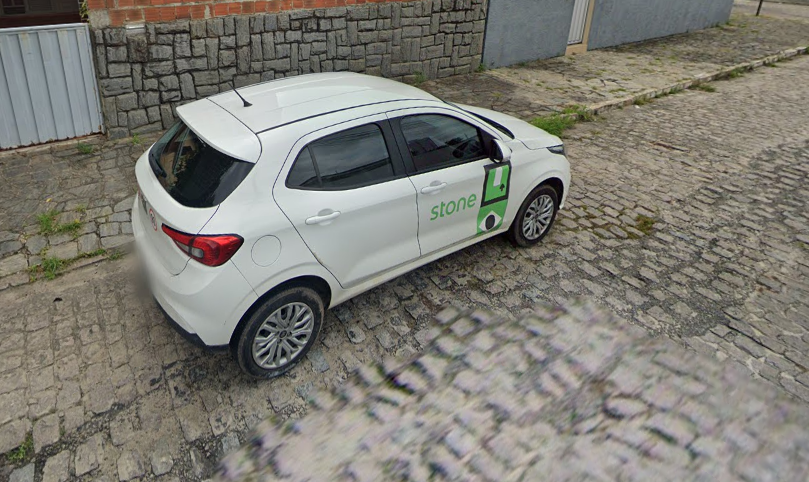car: (127, 68, 573, 381)
